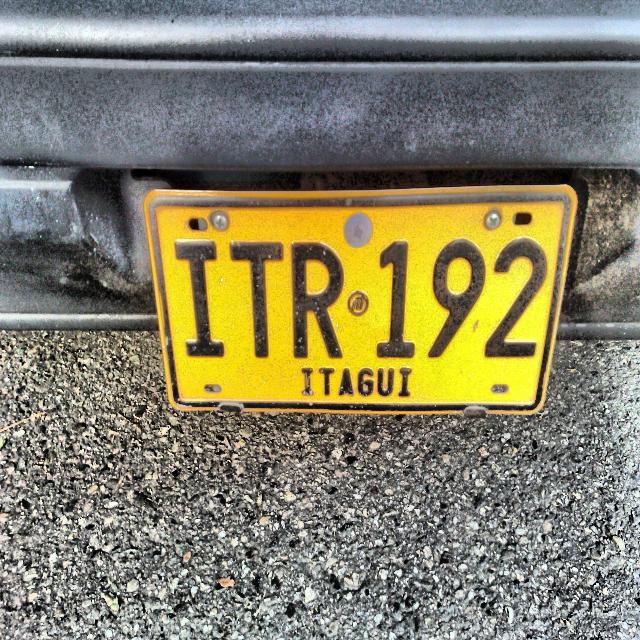plate: (147, 189, 574, 411)
